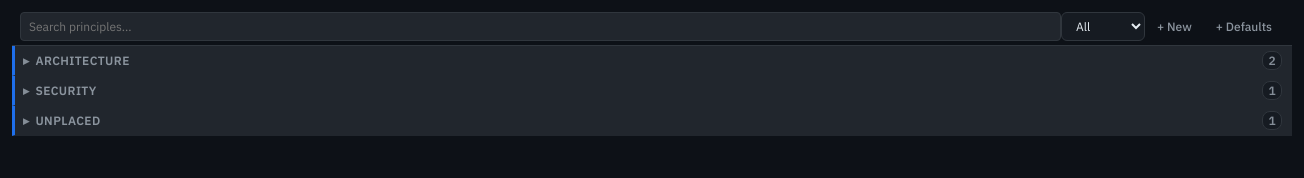
Test: principles tree (PRN-03) › filters by status
Expected: the button "▸ Architecture 2" is shown, [12,46,1292,76]
Select "approved" in the dropdown named "Filter by status" at (1103, 26), box [1061,12,1145,41]
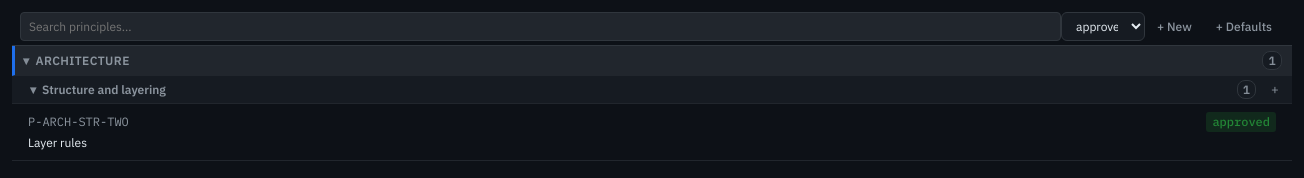
Expected: the text "Layer rules" is shown, [28,135,87,150]
